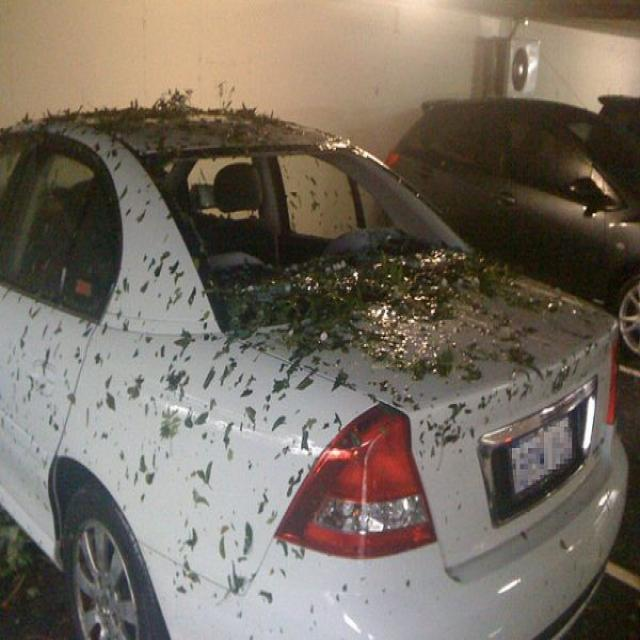shatter: (149, 144, 473, 335)
